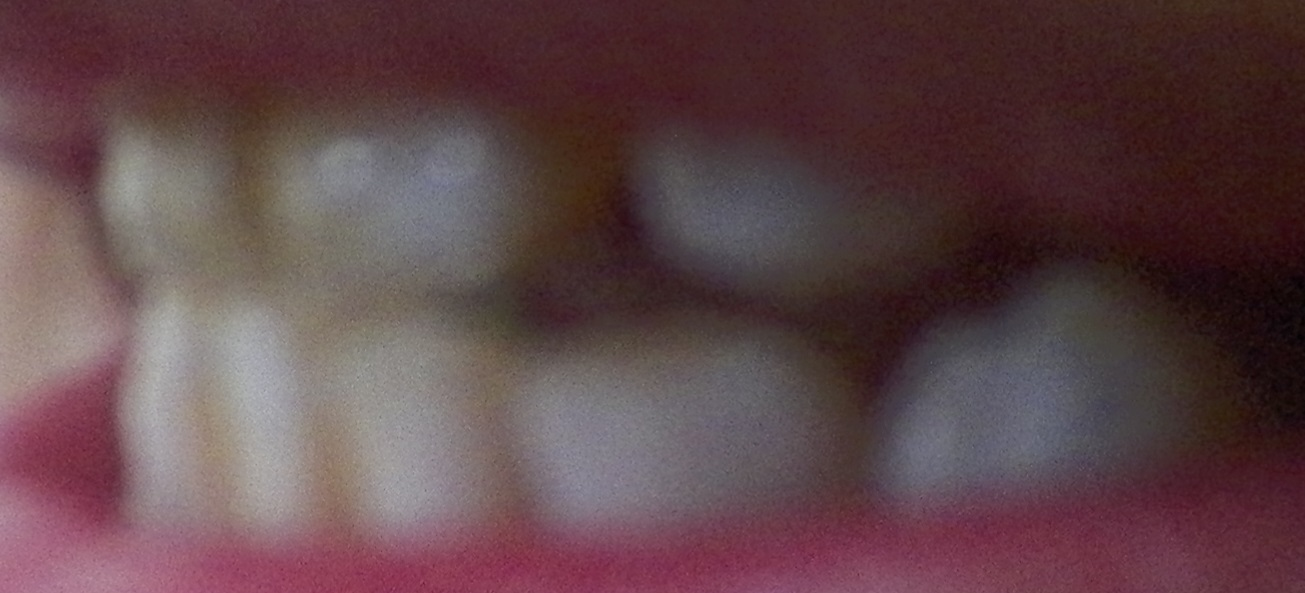boca: (97, 111, 1255, 516)
